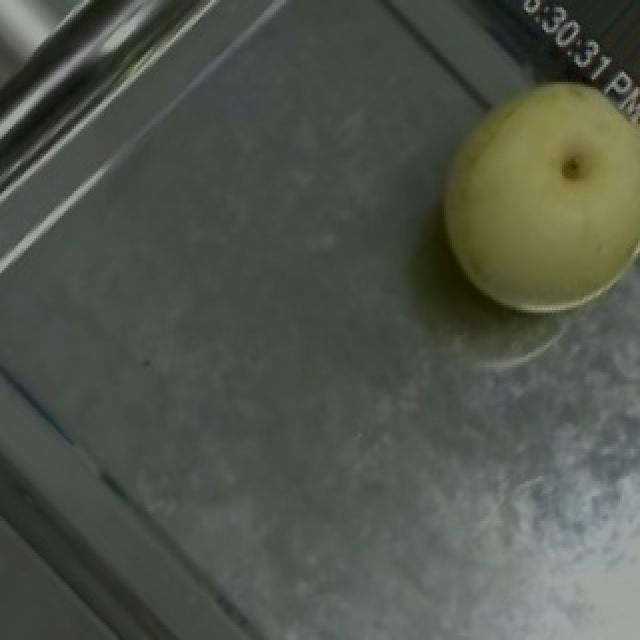Fruit: (392, 39, 640, 350)
